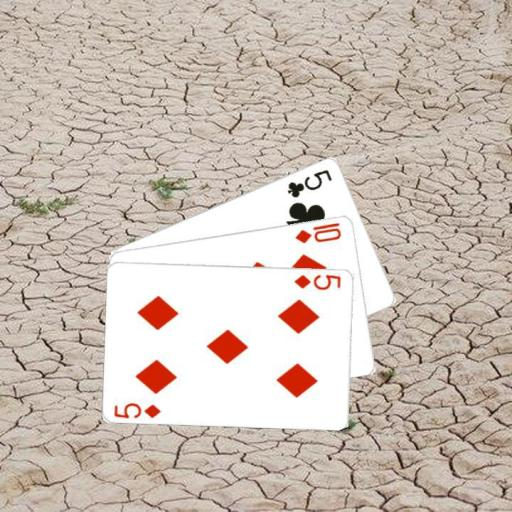10D: (293, 219, 344, 245)
5C: (285, 166, 334, 199)
5D: (112, 400, 163, 420), (292, 271, 342, 291)
